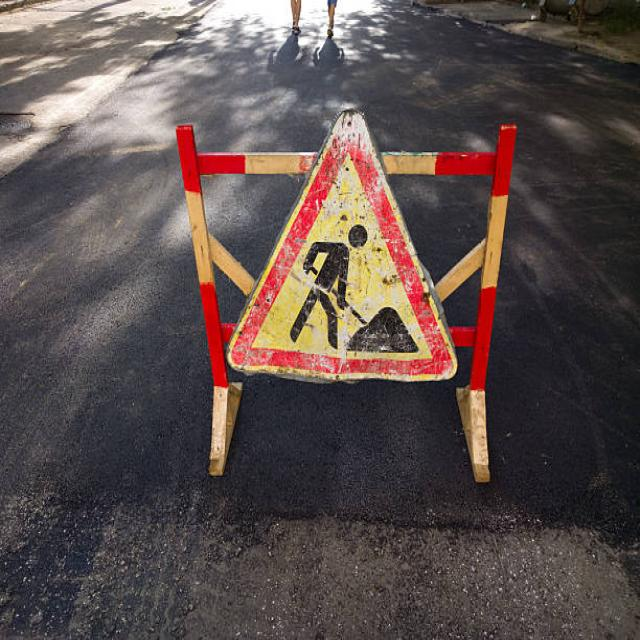road_work: (226, 118, 449, 395)
